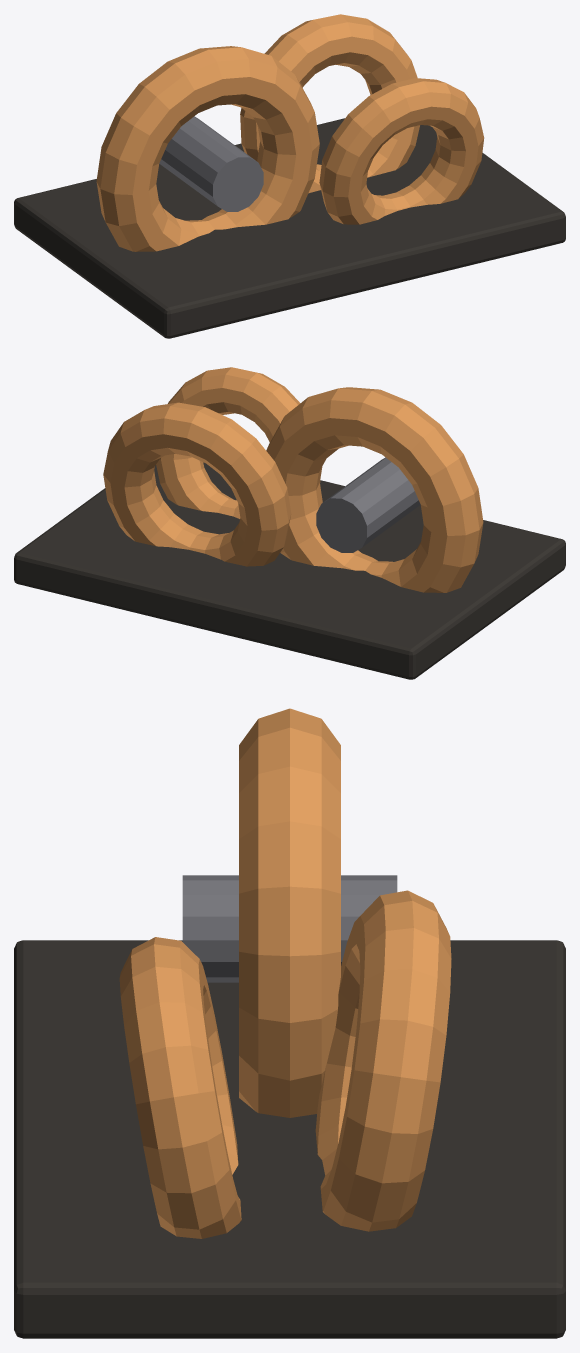
File: windings.glb
3 views of the same model, one above another, from view 1: azimuth 30°, elevation 25°; view 2: azimuth 150°, elevation 25°; view 3: azimuth 270°, elevation 25° (orthographic). The views are drawn at different scales.
Visible parts, largest first — view 1: windings-black-pallet, windings-coil-0, windings-coil-2, windings-coil-1, windings-core; view 2: windings-black-pallet, windings-coil-0, windings-coil-1, windings-coil-2, windings-core; view 3: windings-black-pallet, windings-coil-0, windings-coil-1, windings-coil-2, windings-core.
Boxes of the visible parts, left/top/right/bottom form: windings-black-pallet: left=14, top=118, right=565, bottom=338; windings-coil-0: left=96, top=46, right=319, bottom=251; windings-coil-2: left=319, top=78, right=484, bottom=224; windings-coil-1: left=240, top=14, right=419, bottom=193; windings-core: left=159, top=116, right=263, bottom=211; windings-black-pallet: left=14, top=462, right=565, bottom=679; windings-coil-0: left=266, top=387, right=483, bottom=592; windings-coil-1: left=103, top=402, right=291, bottom=566; windings-coil-2: left=156, top=367, right=320, bottom=518; windings-core: left=316, top=457, right=420, bottom=552; windings-black-pallet: left=14, top=940, right=565, bottom=1338; windings-coil-0: left=239, top=708, right=340, bottom=1117; windings-coil-1: left=315, top=890, right=451, bottom=1231; windings-coil-2: left=119, top=937, right=241, bottom=1238; windings-core: left=182, top=875, right=397, bottom=982.
Size of the model in its own units: 1.18 by 0.6337 by 0.7867.
